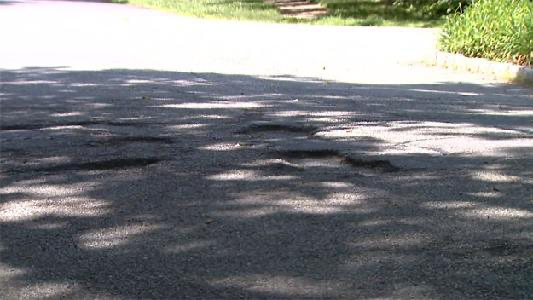pothole: (277, 147, 401, 177), (78, 156, 163, 174), (236, 123, 322, 137)
